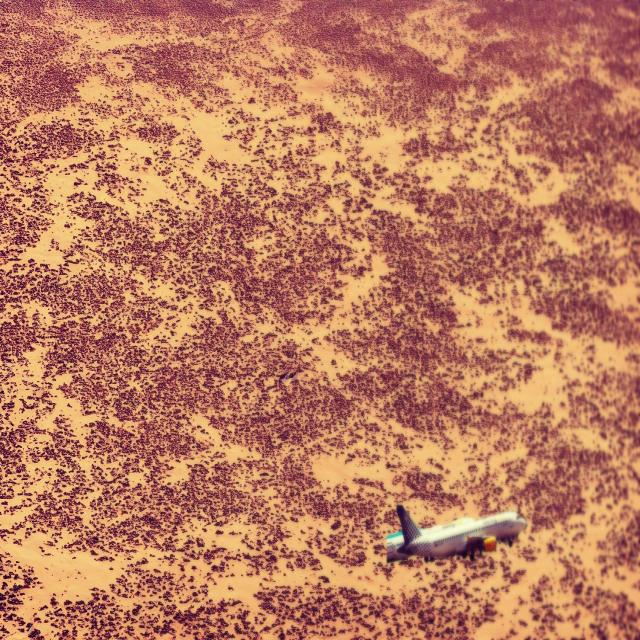airplane: (385, 503, 527, 563)
